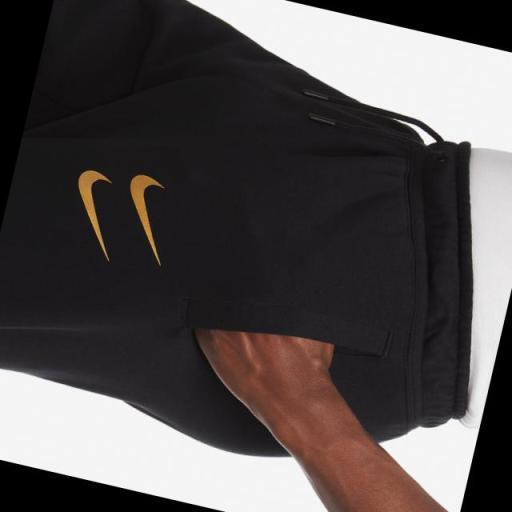Nike: (109, 170, 178, 264)
